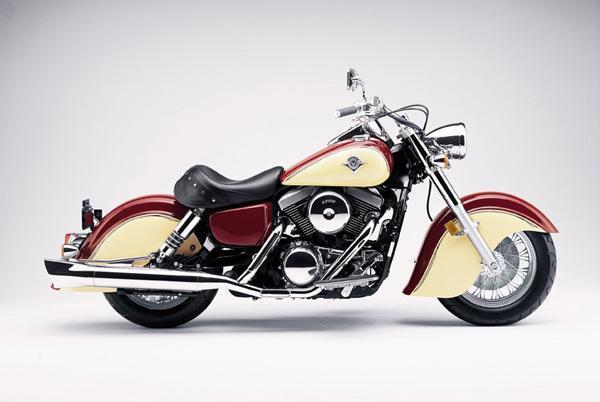motorcycle: (31, 65, 563, 331)
